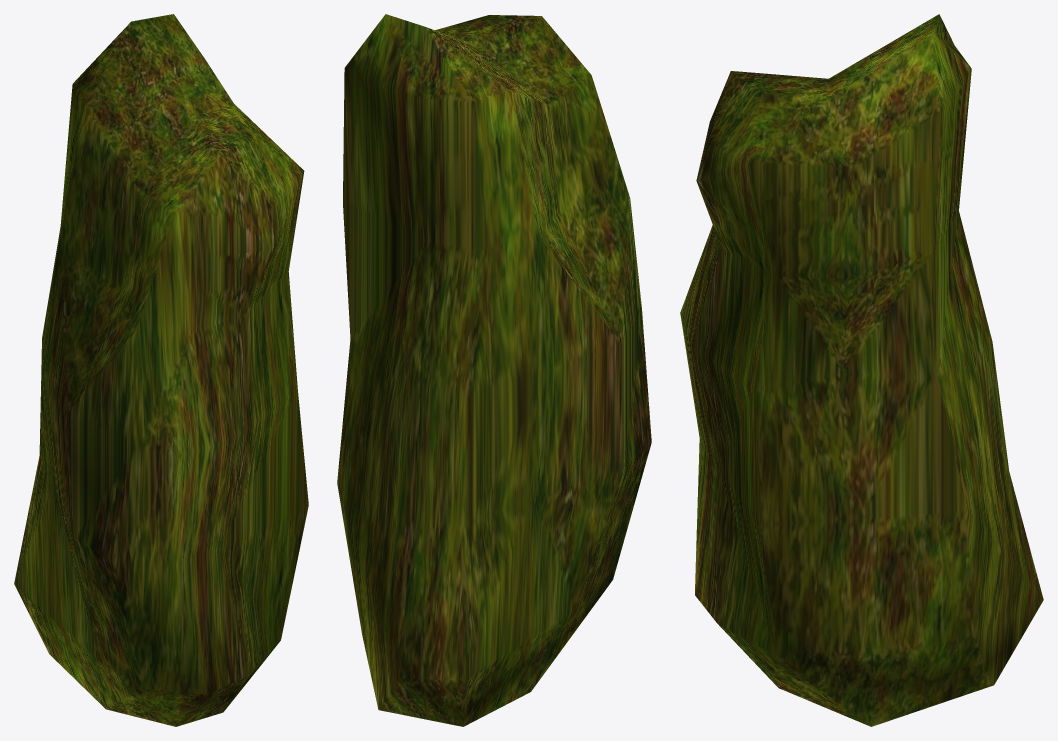
Rendered from TROLLHOLE02_RM_PSURF92.fbx.
The picture shows the model from 3 angles, left to right: view 1: azimuth 30°, elevation 25°; view 2: azimuth 150°, elevation 25°; view 3: azimuth 270°, elevation 25°; orthographic projection. The views are drawn at different scales.
Visible parts, largest first — view 1: TROLLHOLE02_RM_PSURF92; view 2: TROLLHOLE02_RM_PSURF92; view 3: TROLLHOLE02_RM_PSURF92.
Part boxes in pixels (bbox=[...]): TROLLHOLE02_RM_PSURF92: bbox=[14, 14, 308, 726]; TROLLHOLE02_RM_PSURF92: bbox=[337, 14, 651, 726]; TROLLHOLE02_RM_PSURF92: bbox=[680, 14, 1043, 726].
Bounding box in the file's own units: 45239 × 125159 × 59077.
Materials: 1 (1 with a texture image).
